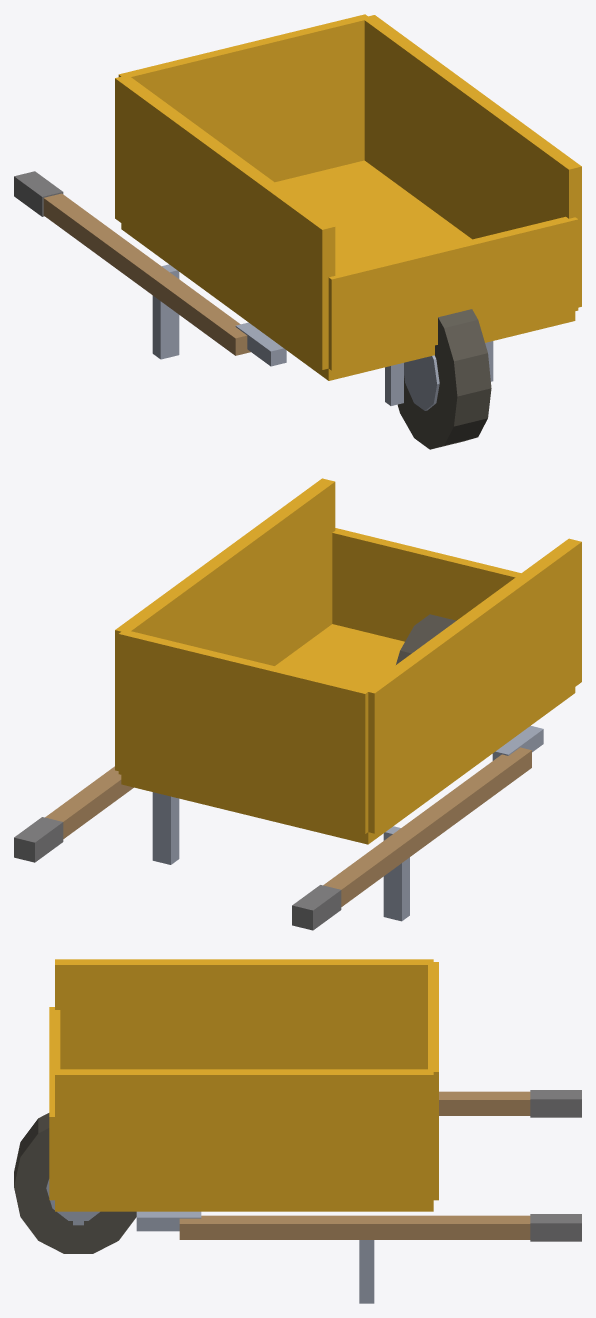
The model's file is cart.glb.
3 views of the same model, one above another, from view 1: azimuth 30°, elevation 25°; view 2: azimuth 150°, elevation 25°; view 3: azimuth 270°, elevation 25° (orthographic). The views are drawn at different scales.
Visible parts, largest first — view 1: cart; view 2: cart; view 3: cart.
Boxes of the visible parts, x1=… form: cart: x1=14, y1=14, x2=581, y2=449; cart: x1=14, y1=478, x2=581, y2=930; cart: x1=14, y1=959, x2=581, y2=1303.
Size of the model in its own units: 1.25 by 1.01 by 2.25.
